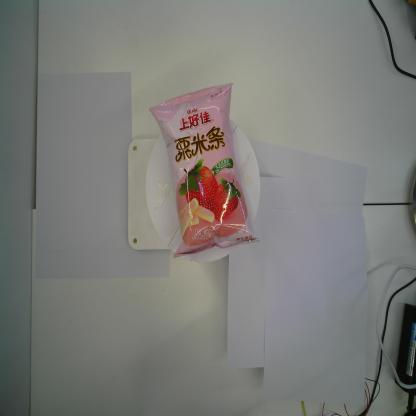Puffed Food: (147, 80, 260, 260)
